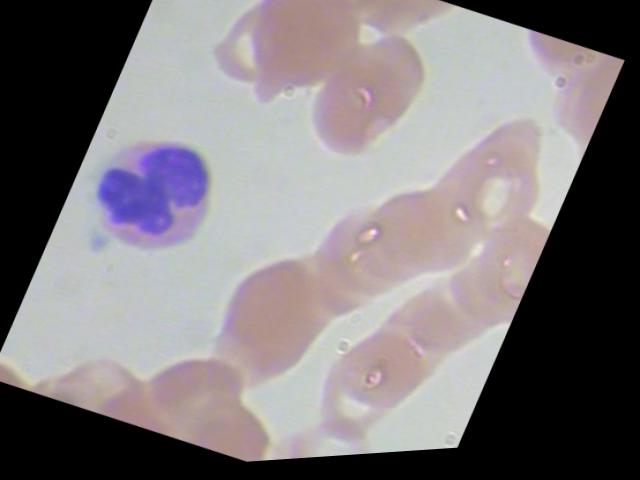Platelets: (83, 227, 115, 260)
White Blood Cells: (63, 105, 244, 283)
